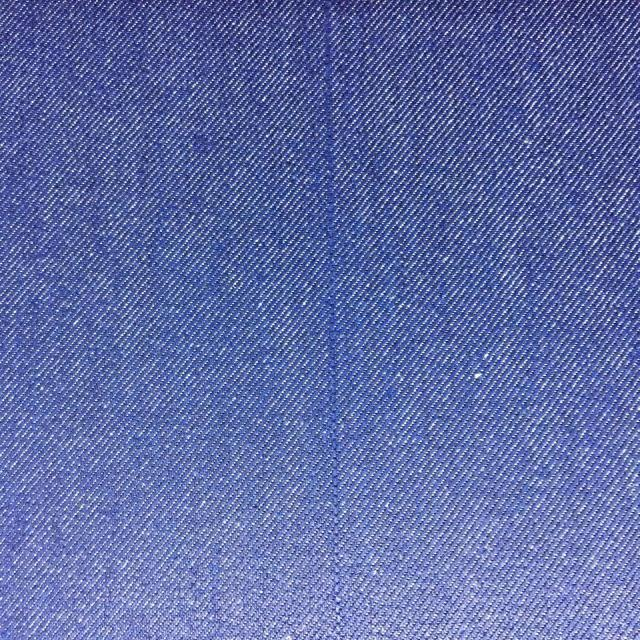Line: (320, 1, 345, 640)
